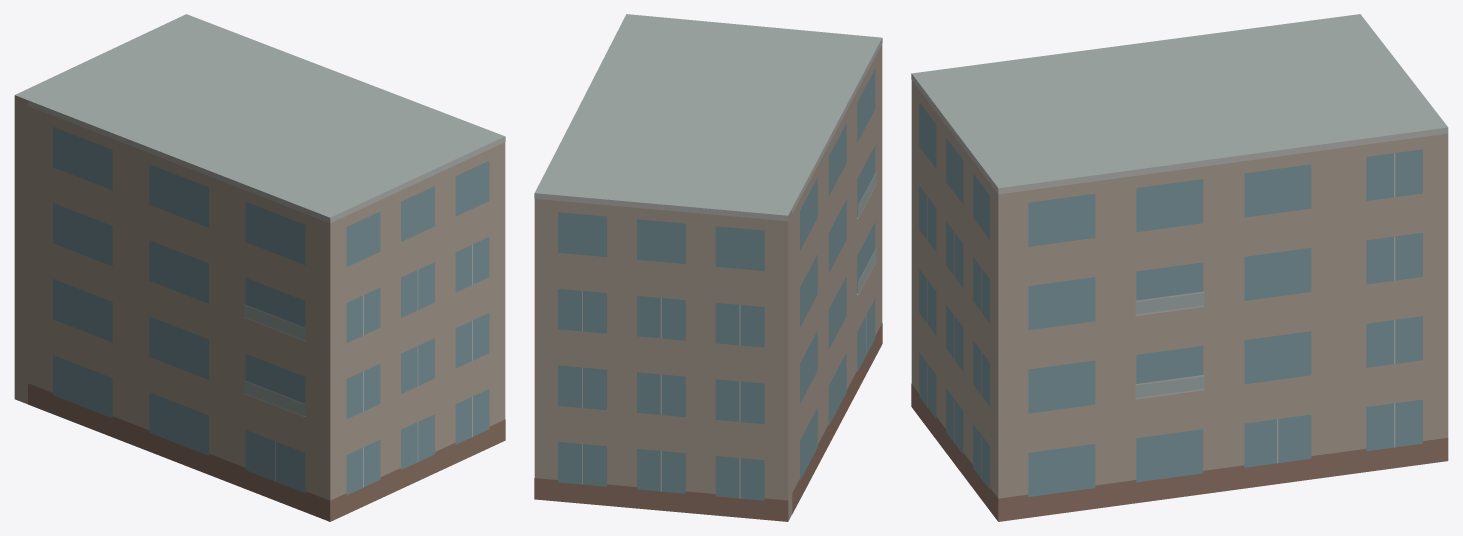
Rendered from survey-upis-32925650.glb.
3 renders of one model, left to right at view 1: azimuth 30°, elevation 25°; view 2: azimuth 150°, elevation 25°; view 3: azimuth 270°, elevation 25°, orthographic. The views are drawn at different scales.
Visible parts, largest first — view 1: survey-upis-32925650.tmp; view 2: survey-upis-32925650.tmp; view 3: survey-upis-32925650.tmp.
Boxes of the visible parts, box(x1,y1,x2,y2) form: survey-upis-32925650.tmp: box(14, 14, 505, 521); survey-upis-32925650.tmp: box(534, 14, 882, 521); survey-upis-32925650.tmp: box(911, 14, 1448, 521).
Bounding box in the file's own units: 14.92 × 13.3 × 19.41.
